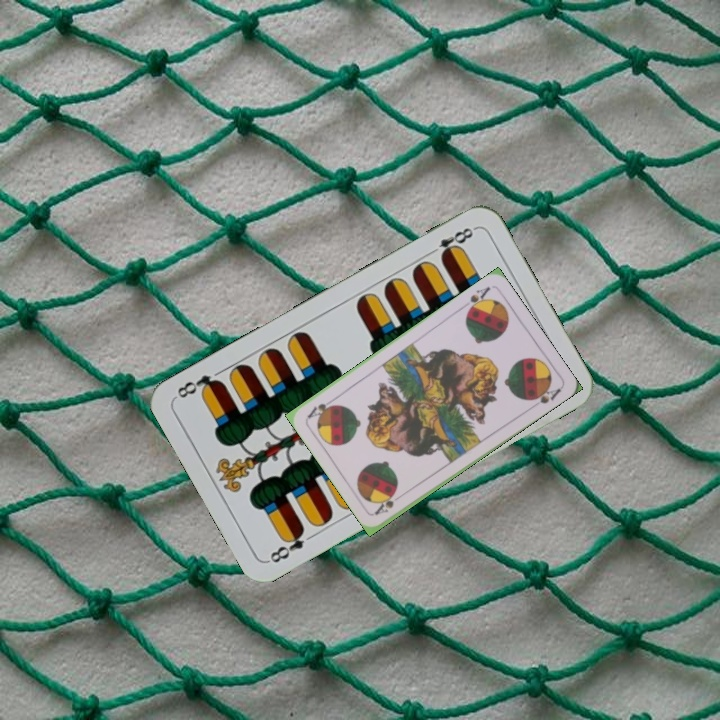E8: (424, 223, 478, 262), (265, 523, 308, 566)
SA: (458, 282, 493, 316), (371, 490, 398, 517)
